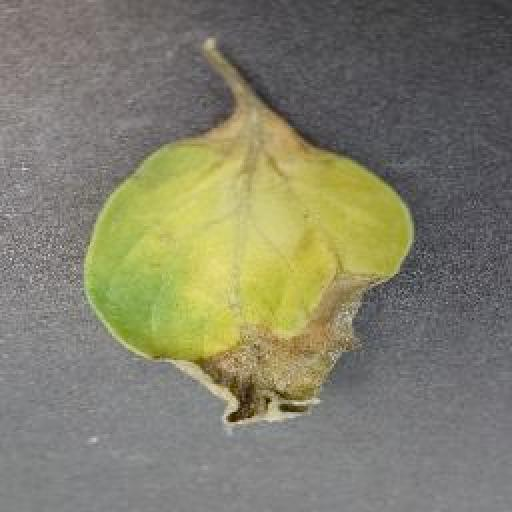disease_tomato: (78, 110, 416, 434)
